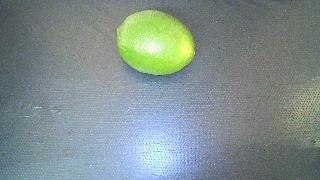EXPORTACION: (117, 10, 195, 75)
